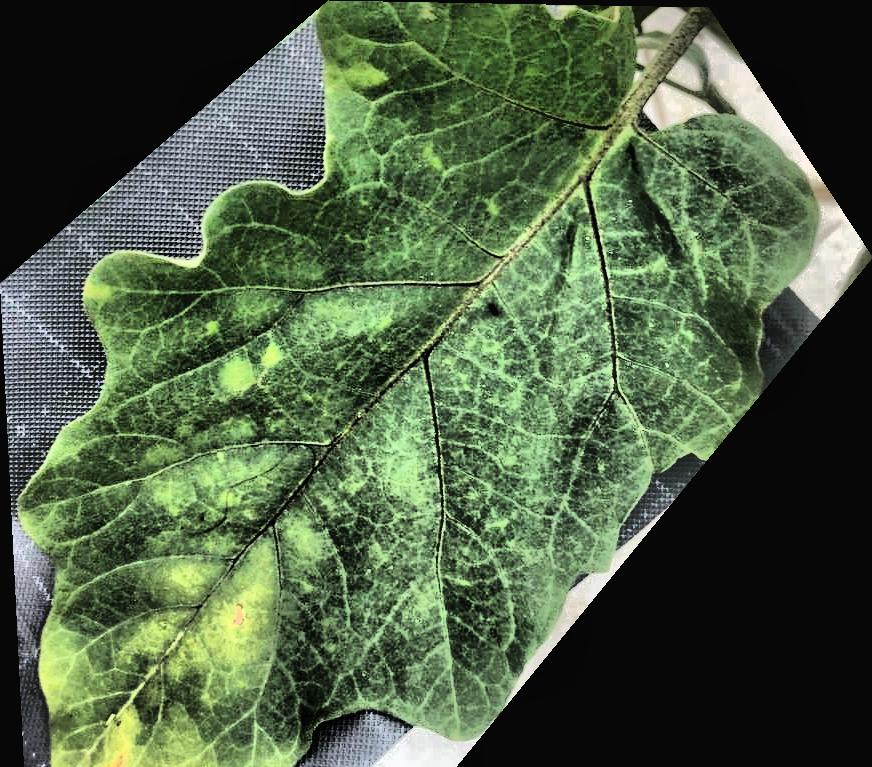Non-critical Stress: (0, 0, 872, 767)
